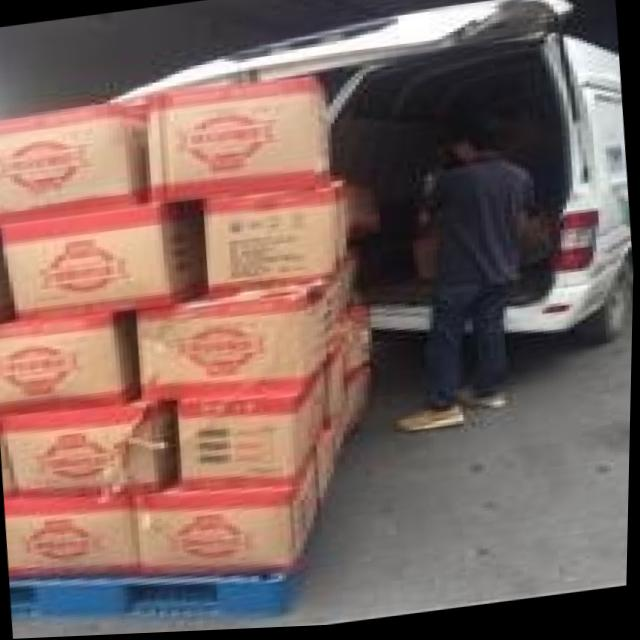box: (134, 253, 358, 398), (144, 77, 334, 207), (0, 201, 207, 318), (131, 452, 323, 574), (180, 360, 330, 494), (6, 391, 181, 496), (0, 105, 153, 225), (203, 183, 354, 298), (0, 313, 142, 414), (10, 494, 143, 576), (339, 305, 377, 424), (327, 350, 354, 448), (338, 181, 378, 245), (318, 433, 340, 508), (0, 253, 11, 323)
